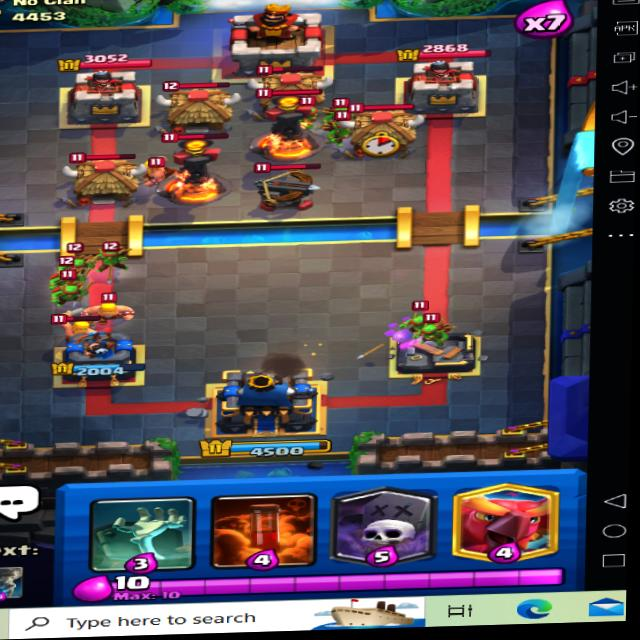barbarian: (47, 310, 111, 347), (81, 287, 144, 322), (141, 151, 179, 183)
goblin-hut: (59, 146, 150, 205), (152, 76, 240, 135), (247, 61, 334, 118), (343, 99, 423, 157)
inferno-tower: (151, 125, 247, 213), (251, 84, 323, 157)
spear-goblin: (413, 307, 453, 347), (93, 241, 136, 273), (66, 244, 107, 275), (403, 299, 439, 334), (53, 269, 89, 301), (324, 117, 358, 141)
x-bow: (240, 153, 327, 211)
